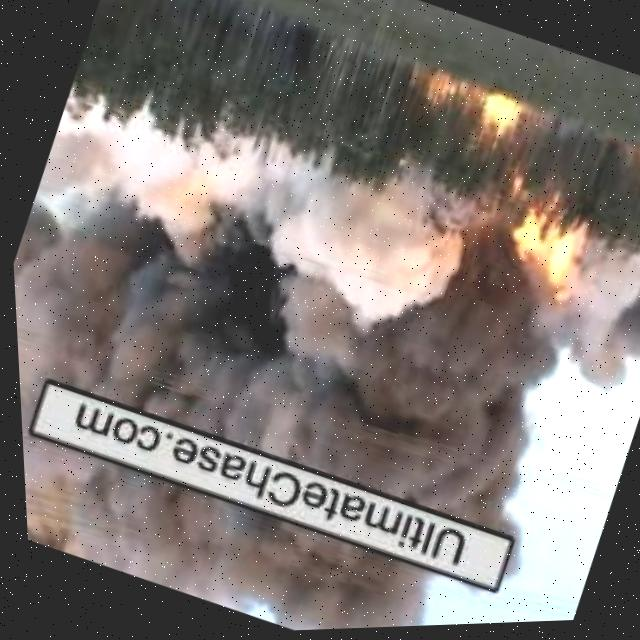Fire: (479, 185, 607, 326), (466, 95, 522, 152), (417, 71, 472, 124), (638, 153, 640, 198)
Smoke: (4, 87, 602, 546), (17, 400, 434, 640)
